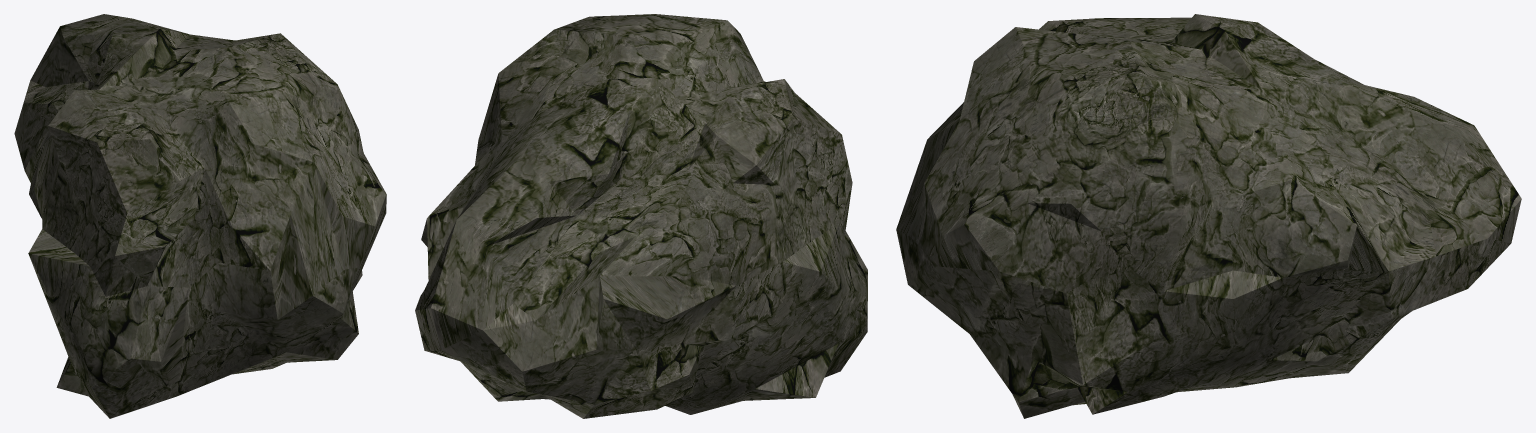
Rendered from TI_Cliff_03_a_LOD_02.fbx.
3 renders of one model, left to right at view 1: azimuth 30°, elevation 25°; view 2: azimuth 150°, elevation 25°; view 3: azimuth 270°, elevation 25°, orthographic. The views are drawn at different scales.
Visible parts, largest first — view 1: TI_Cliff_03_a_LOD_02; view 2: TI_Cliff_03_a_LOD_02; view 3: TI_Cliff_03_a_LOD_02.
Part boxes in pixels (left/top/right/bottom): TI_Cliff_03_a_LOD_02: left=14, top=14, right=386, bottom=418; TI_Cliff_03_a_LOD_02: left=415, top=14, right=867, bottom=418; TI_Cliff_03_a_LOD_02: left=896, top=14, right=1521, bottom=418.
Size of the model in its own units: 6.86 by 6.71 by 10.5.
